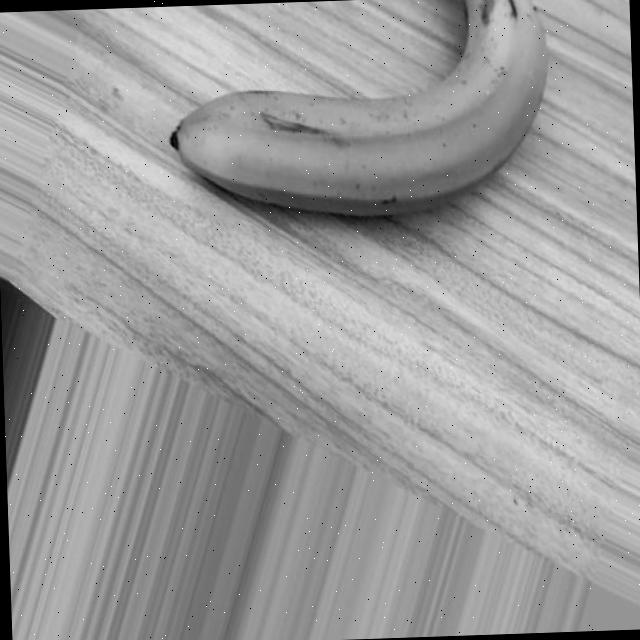Unripe: (160, 0, 554, 227)
